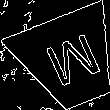M_SE: (36, 29, 103, 93)
